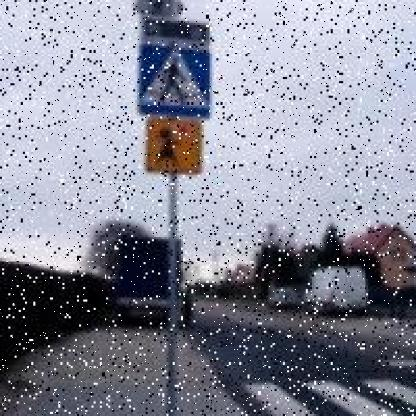Pedestrian Crossing: (132, 45, 215, 120)
